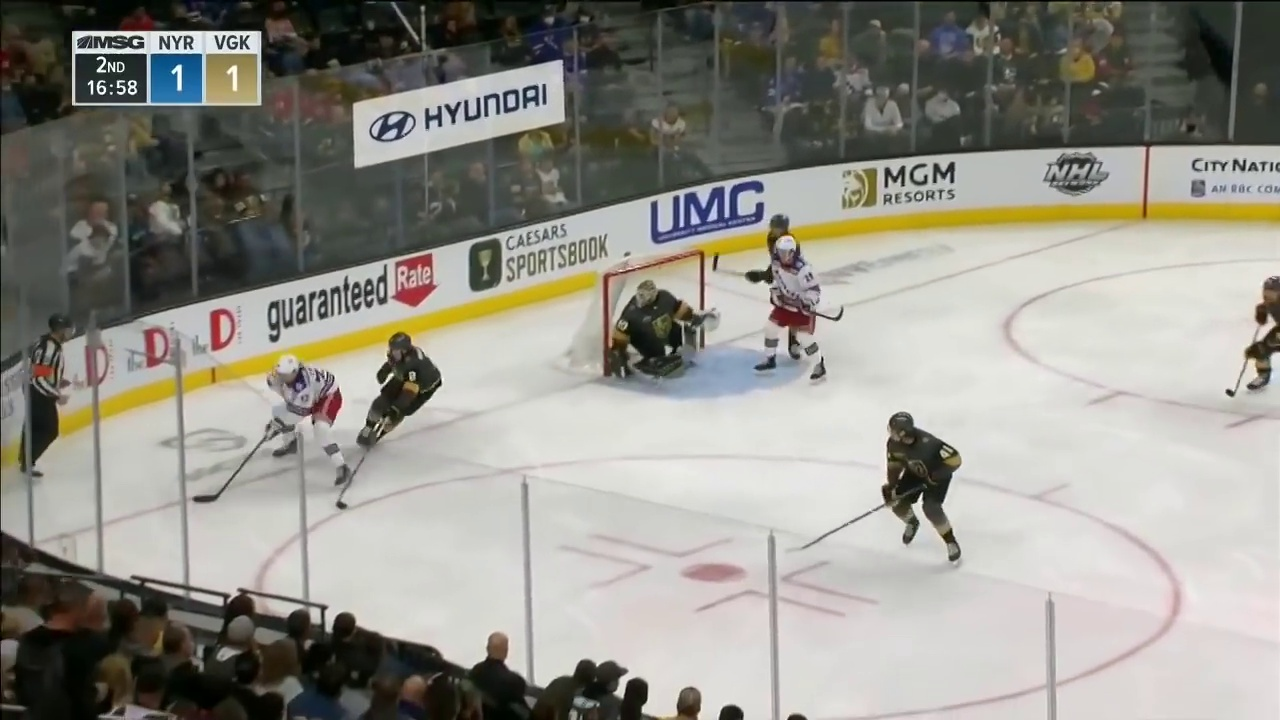goalie: (608, 280, 721, 378)
hockeyplayer: (881, 411, 961, 566), (266, 353, 352, 488), (753, 234, 827, 386), (357, 332, 443, 449), (745, 214, 801, 360), (1244, 276, 1280, 394)
referee: (18, 313, 76, 483)
